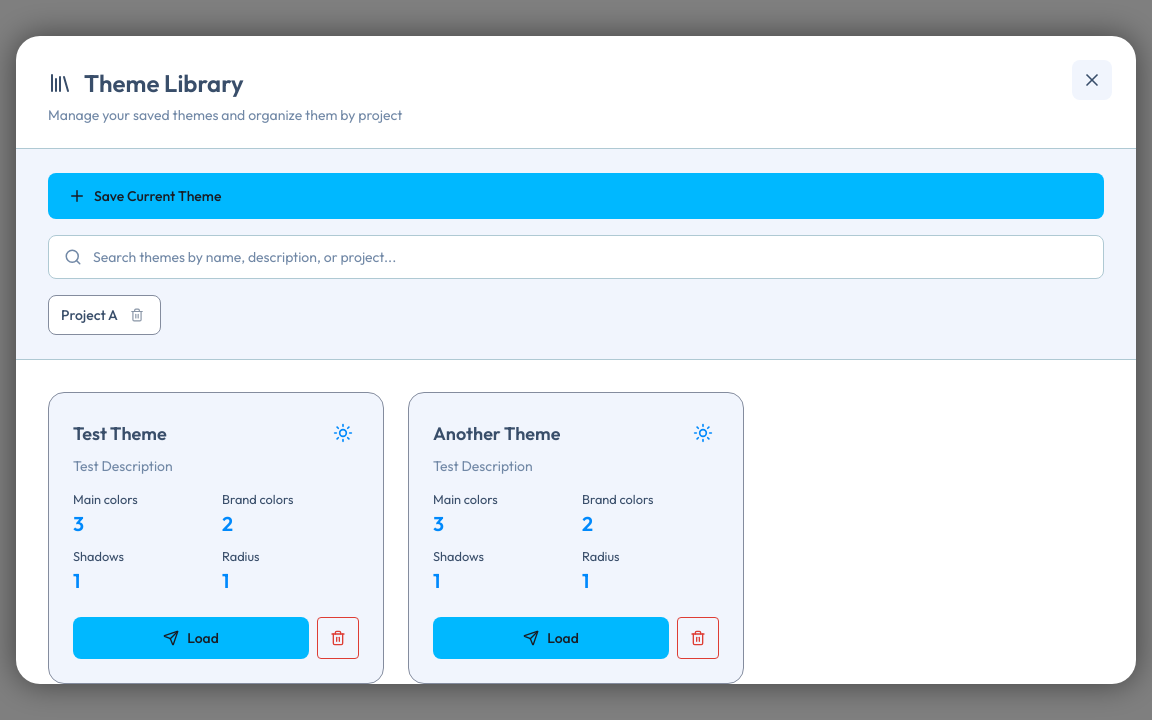
Scenario: LibraryModal Component › Functionality › filters themes by search query
The image size is (1152, 720).
Type "Another" into the field labelled "Search themes" at [576, 257], box [48,235,1104,279]
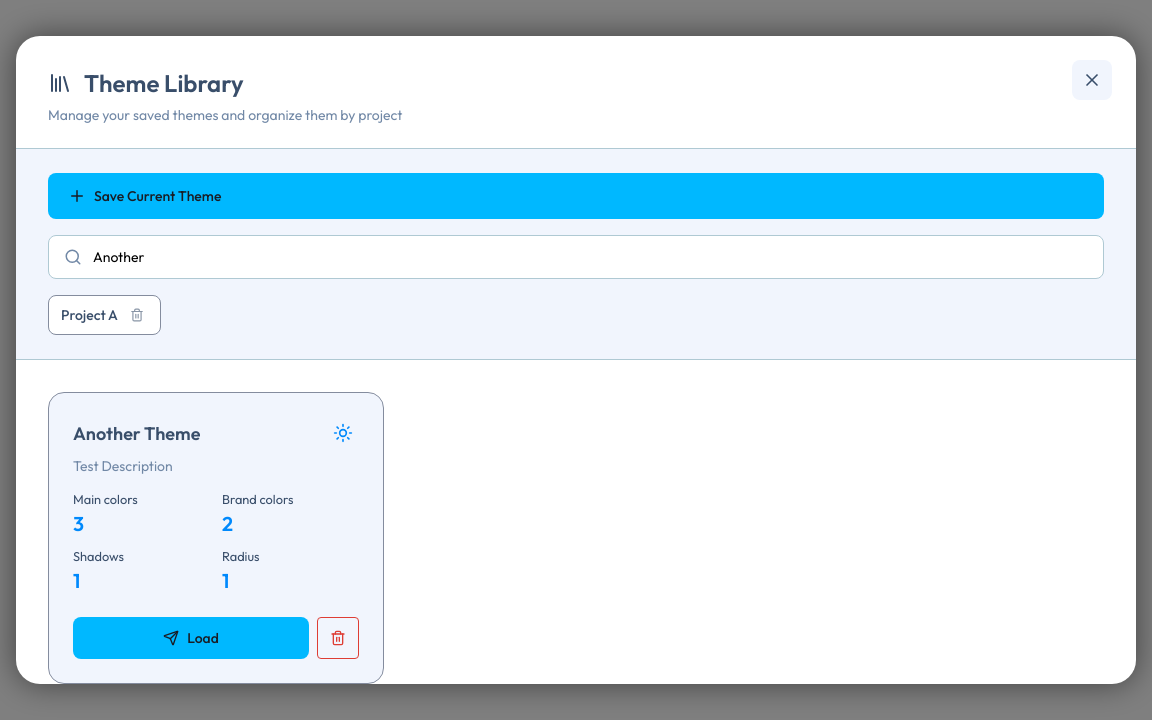
Expected: the heading "Another Theme" is shown, [73,422,200,444]
Expected: the heading "Test Theme" is gone
